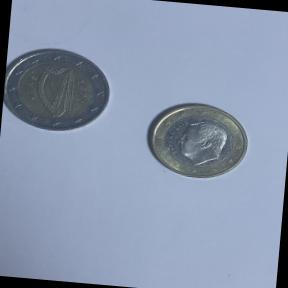1 Euro-B: (140, 93, 255, 184)
2 Euro-B: (1, 40, 120, 142)
